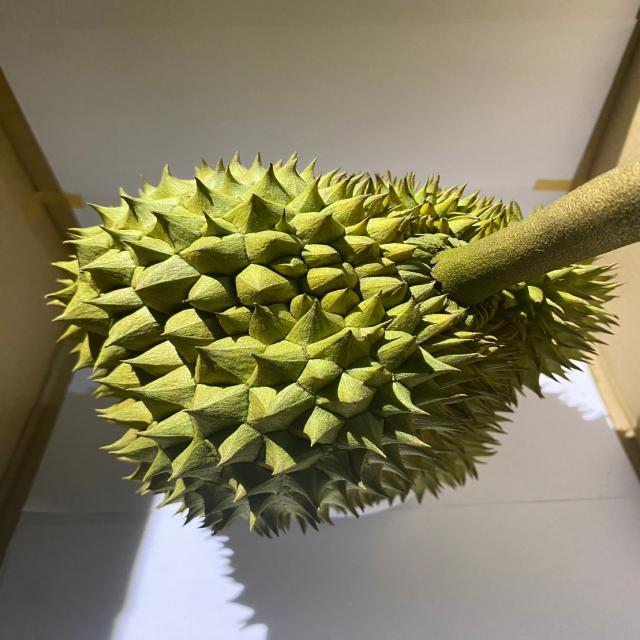immature: (46, 150, 626, 541)
